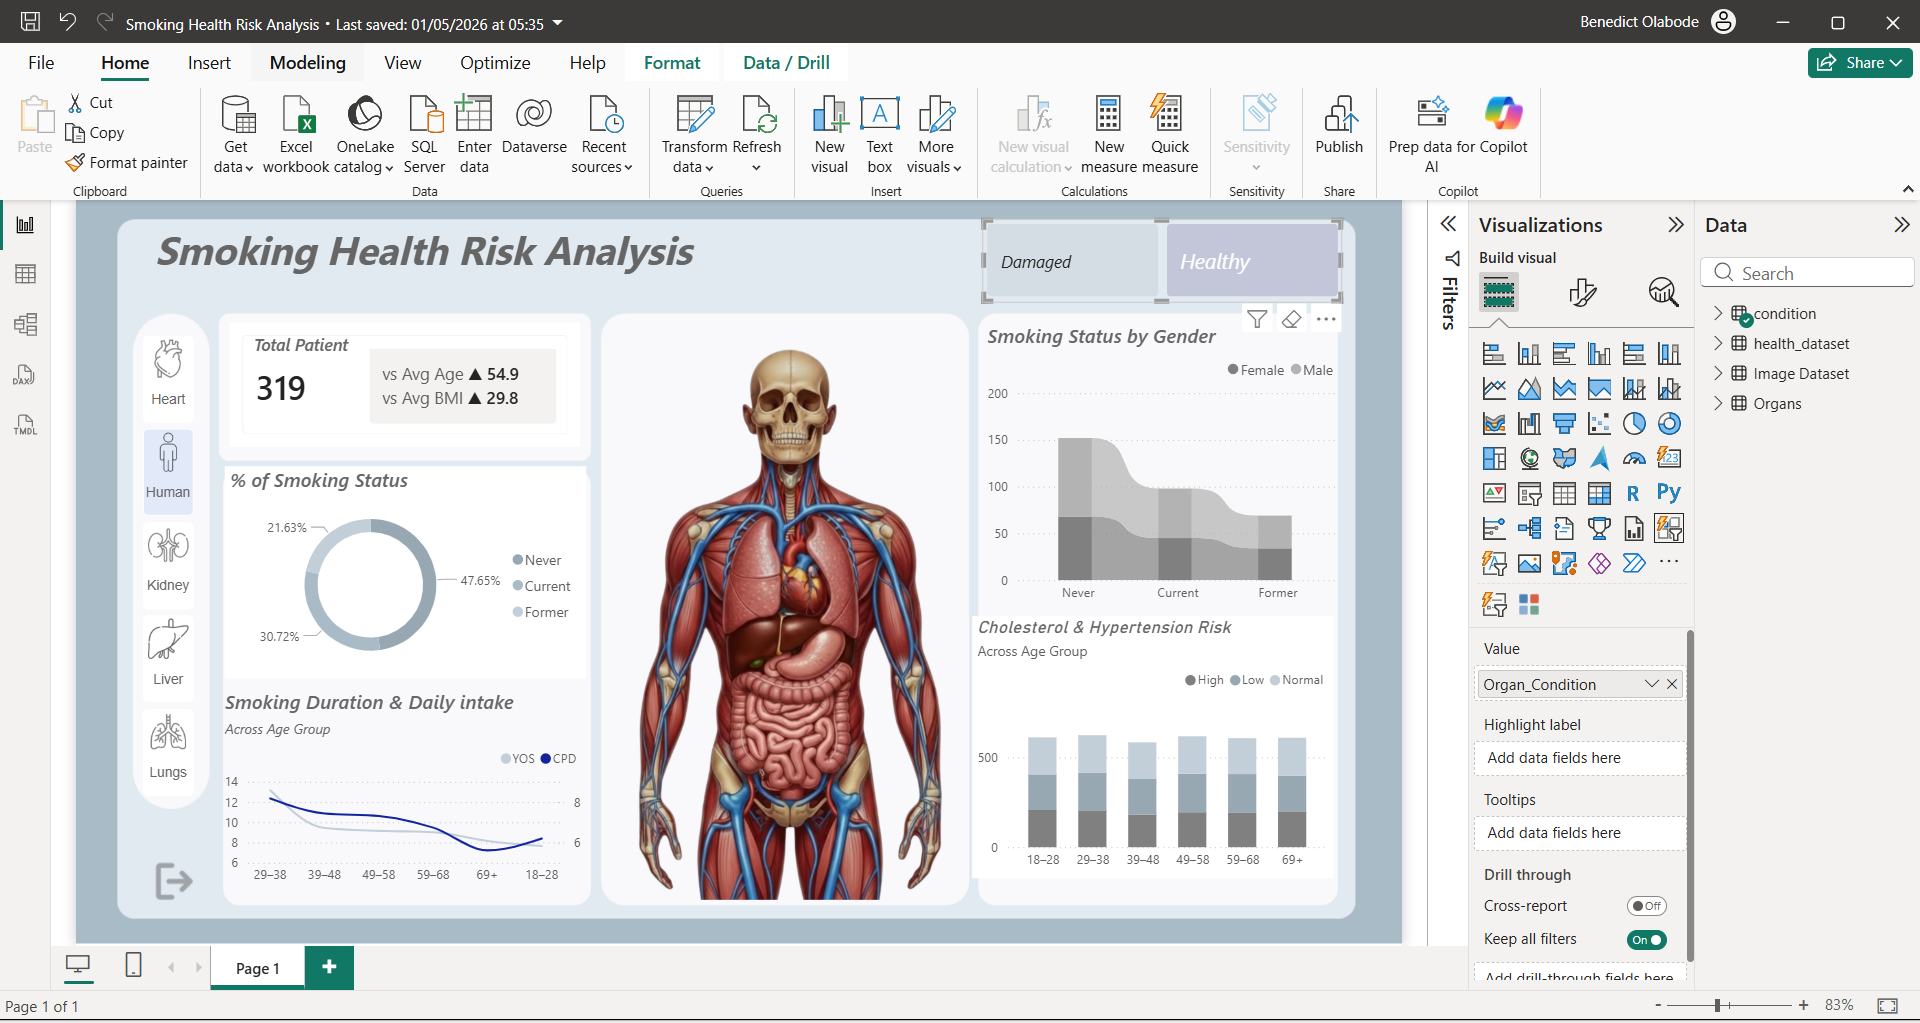

Layout of this report page (visuals, bound fields, positions):
{"tool":"powerbi","page":{"name":"Page 1","canvas":[1280,720],"ordinal":0},"visuals":[{"type":"cardVisual","fields":{"Data":["CountNonNull(health_dataset.Patient_ID)"]},"box":[144.1,113.9,348.5,130.4],"z":0},{"type":"textbox","box":[166,123.5,199,41.2],"z":1000},{"type":"advancedSlicerVisual","fields":{"Values":["condition.Organ_Condition"]},"box":[874.1,17.8,348.5,81],"z":2000},{"type":"ChicletSlicer1448559807354","fields":{"Category":["Organs.Organ"],"Image":["Organs.Icon_URL"]},"box":[56.3,123.5,109.8,496.7],"z":3000},{"type":"image","box":[516.4,119.4,348.7,556.2],"z":4000},{"type":"donutChart","title":"% of Smoking Status","fields":{"Category":["health_dataset.Smoking_Status"],"Y":["CountNonNull(health_dataset.Smoking_Status)"]},"box":[144.1,256.6,348.5,204.5],"z":5000},{"type":"lineChart","title":"Smoking Duration & Daily intake","fields":{"Category":["health_dataset.Age Group"],"Y":["Avg(health_dataset.Years_of_Smoking)"],"Y2":["Avg(health_dataset.Cigarettes_Per_Day)"]},"box":[138.6,472,354,197.6],"z":6000},{"type":"ribbonChart","title":"Smoking Status by Gender","fields":{"Category":["health_dataset.Smoking_Status"],"Y":["CountNonNull(health_dataset.Patient_ID)"],"Series":["health_dataset.Gender"]},"box":[874.1,118,348.5,278.6],"z":7000},{"type":"columnChart","title":"Cholesterol & Hypertension Risk ","fields":{"Category":["health_dataset.Age Group"],"Y":["Avg(health_dataset.Cholesterol_Level)"],"Series":["health_dataset.BP_Risk"]},"box":[864.5,402.1,348.5,252.5],"z":8000},{"type":"textbox","box":[71.4,17.8,551.6,74.1],"z":9000}]}

Visuals, with their boxes on the page's 1280x720 design canvas (x1, y1, x2, y2). These are canvas units, not pixel positions in the 1920x1023 screenshot, which may show the page scaled, cropped or inside an application window:
cardVisual - CountNonNull(health_dataset.Patient_ID): [144,114,493,244]
textbox: [166,124,365,165]
advancedSlicerVisual - condition.Organ_Condition: [874,18,1223,99]
ChicletSlicer1448559807354 - Organs.Organ x Organs.Icon_URL: [56,124,166,620]
image: [516,119,865,676]
"% of Smoking Status" donutChart: [144,257,493,461]
"Smoking Duration & Daily intake" lineChart: [139,472,493,670]
"Smoking Status by Gender" ribbonChart: [874,118,1223,397]
"Cholesterol & Hypertension Risk " columnChart: [864,402,1213,655]
textbox: [71,18,623,92]
